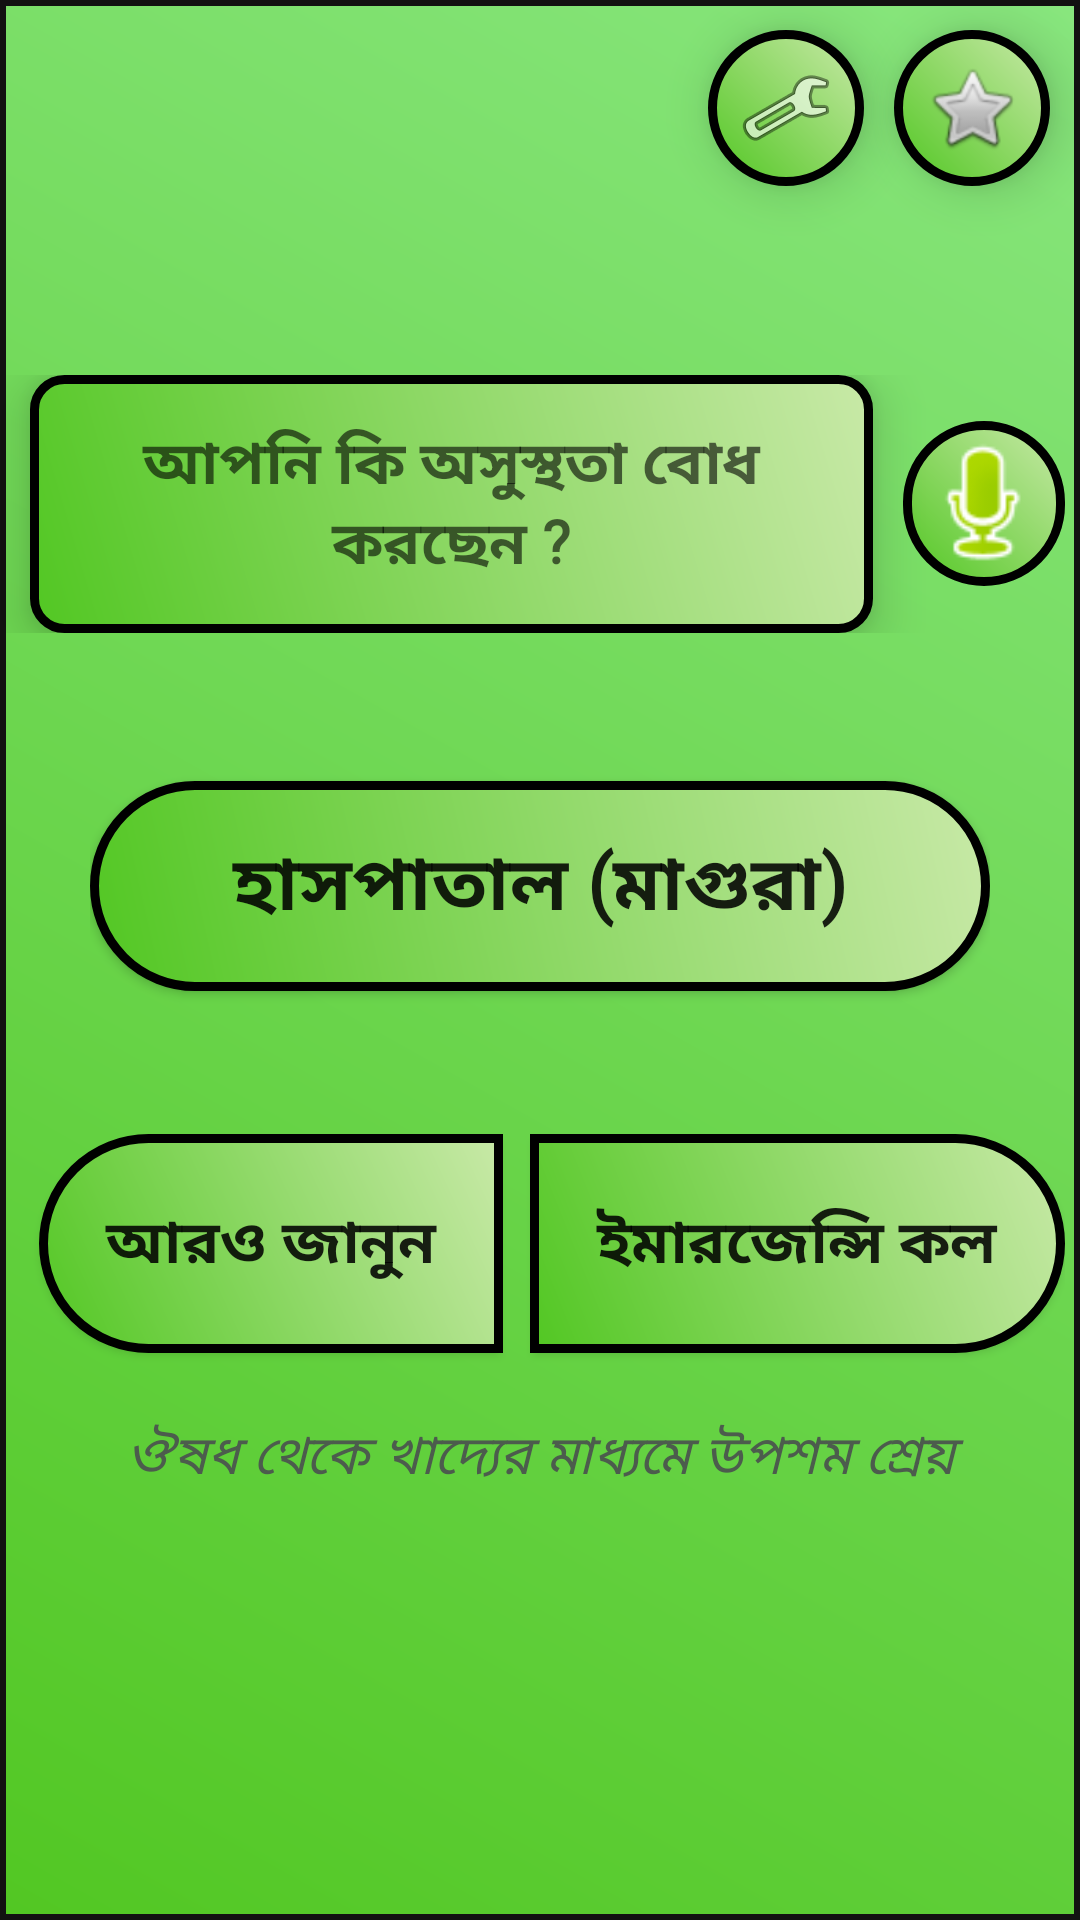

Screen size 1080px×1920px. Icon name, then its center in pixels as (x,y):
manage: (786,108)
presence audio online: (984,503)
star: (972,108)
